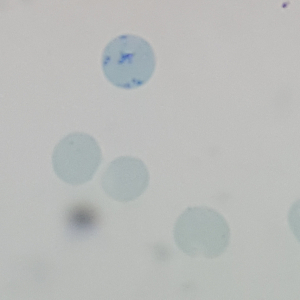aggregate reticulocyte: (99, 33, 157, 91)
erythrocyte: (99, 154, 152, 204)
punctate reticulocyte: (171, 204, 232, 261), (50, 131, 104, 187)
